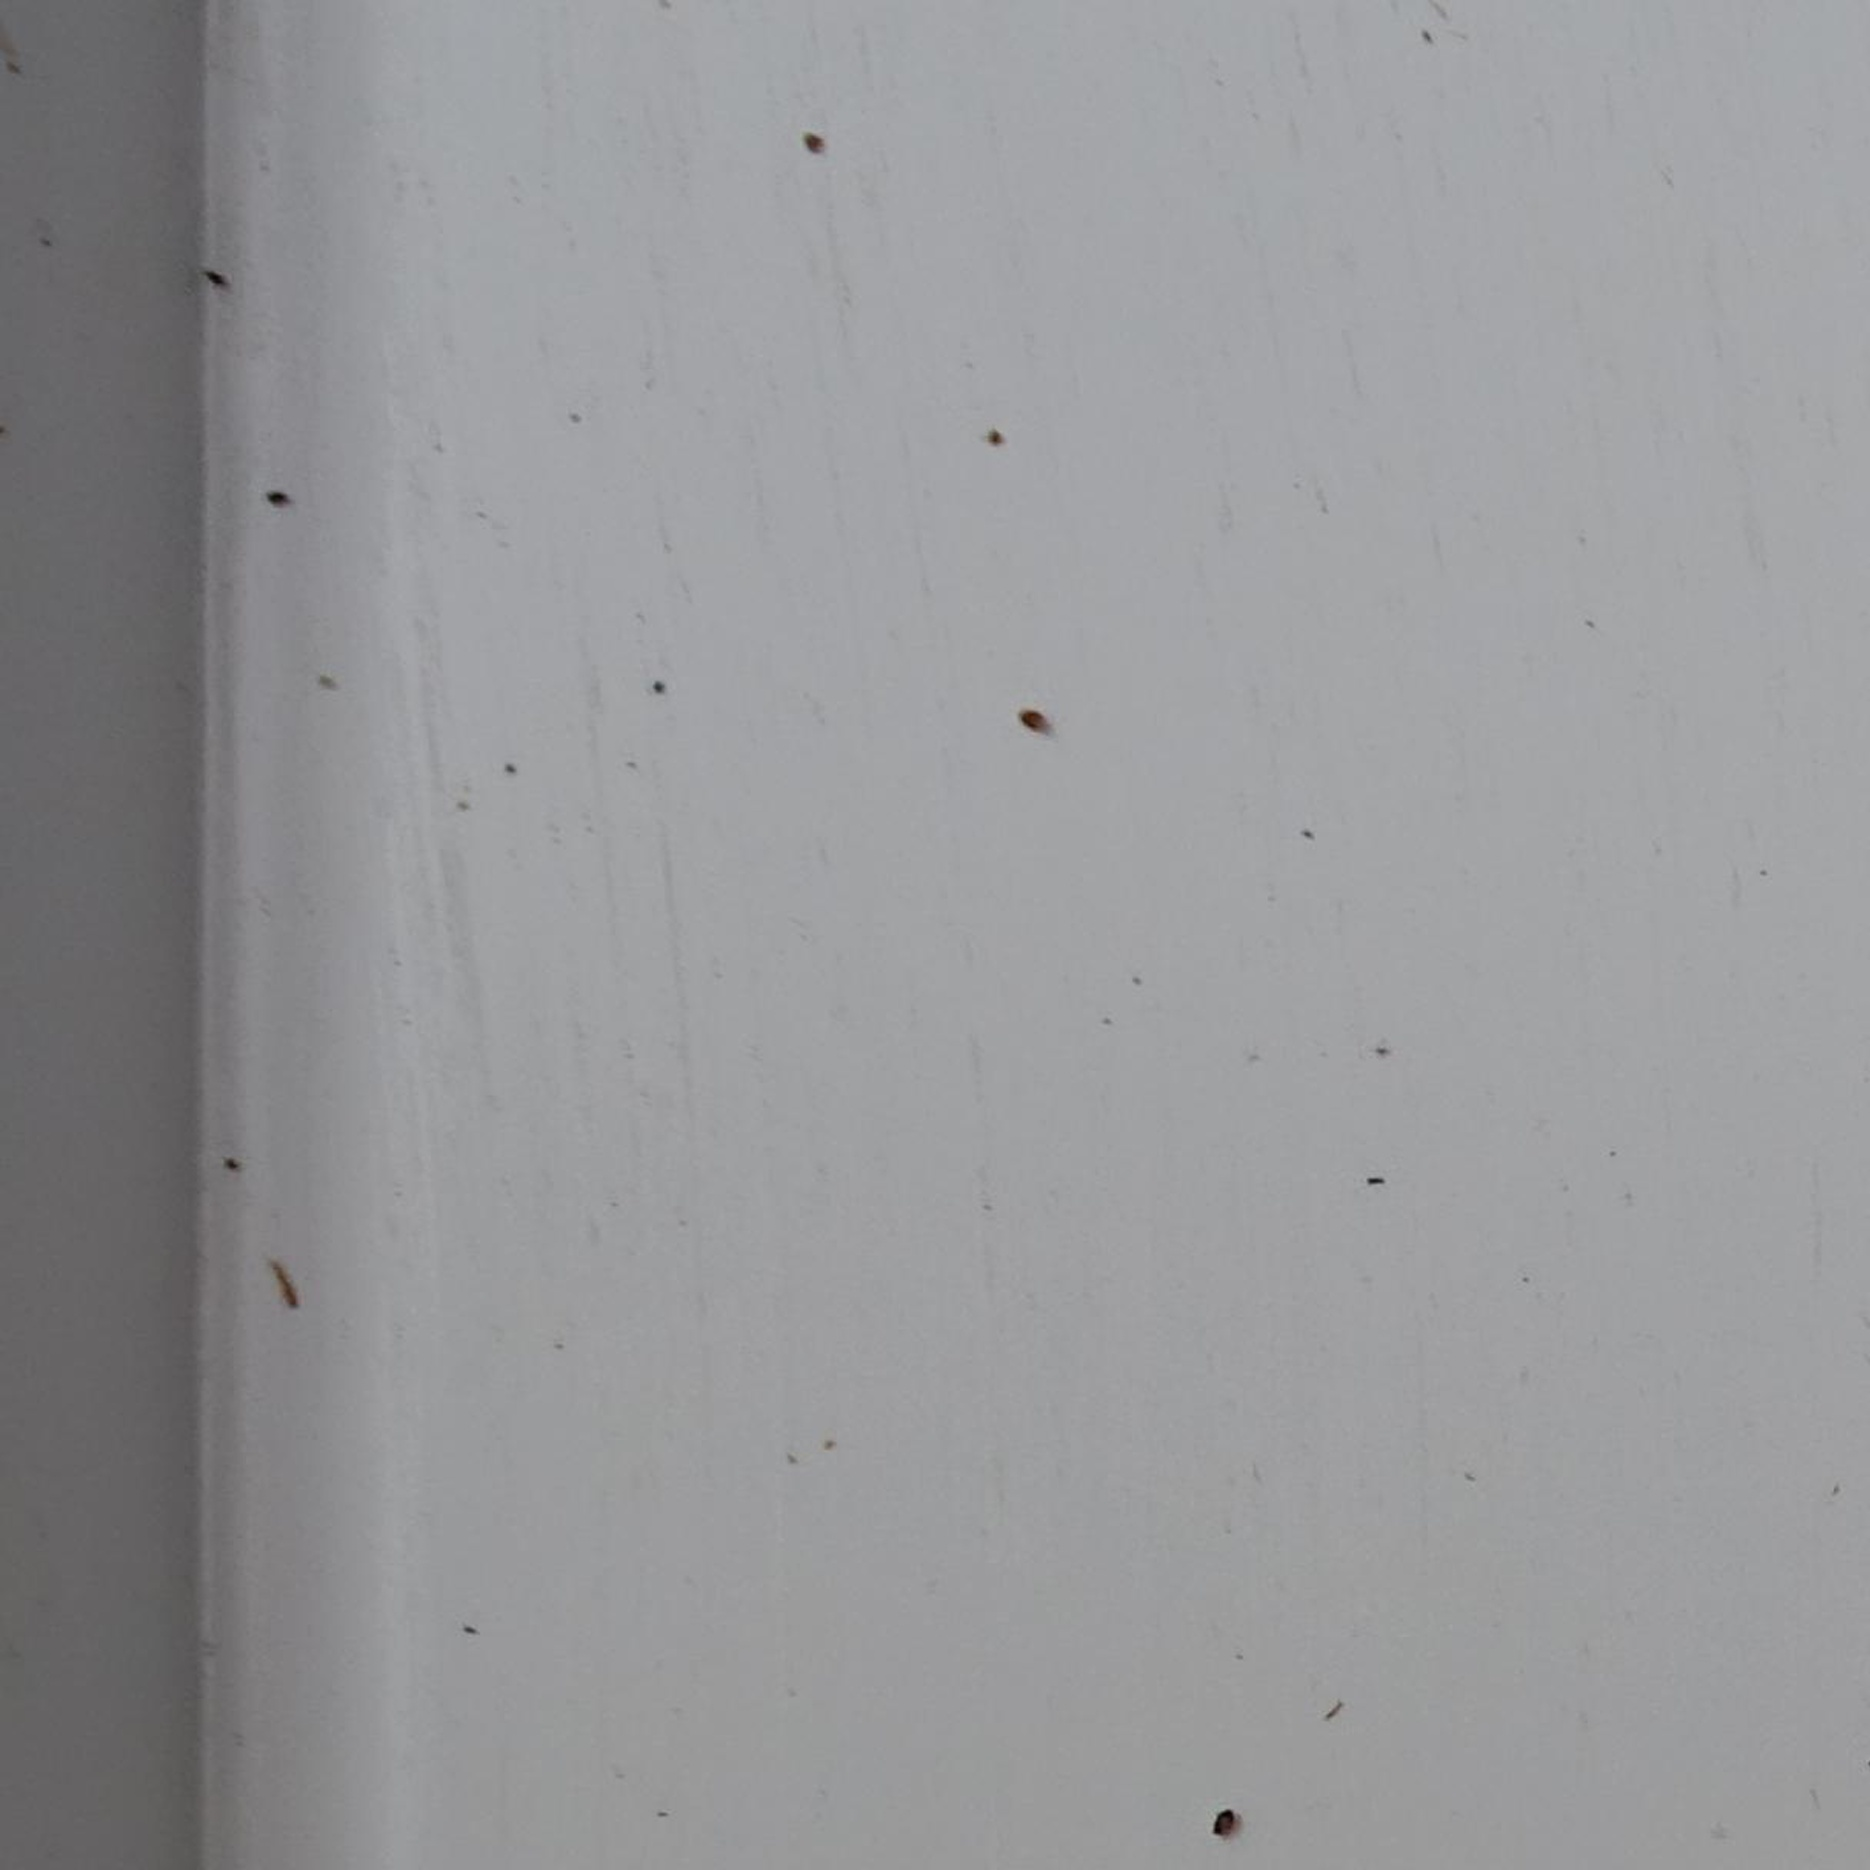Varroa: (1218, 1812, 1242, 1837)
